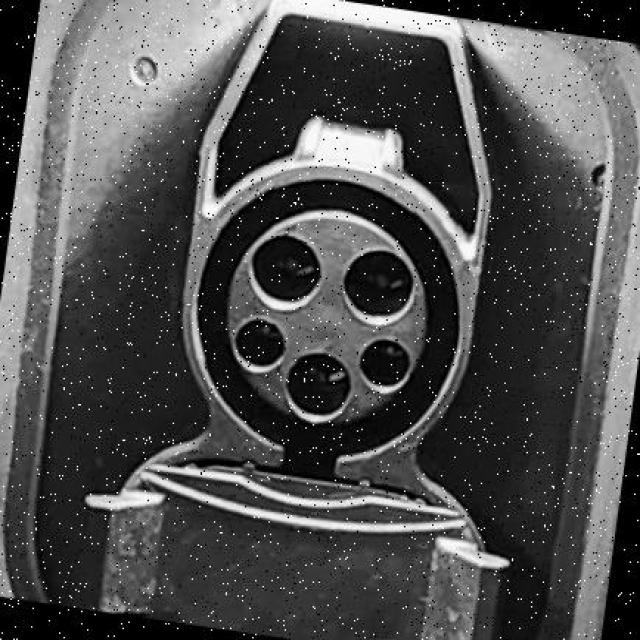Type 1: (191, 168, 485, 470)
